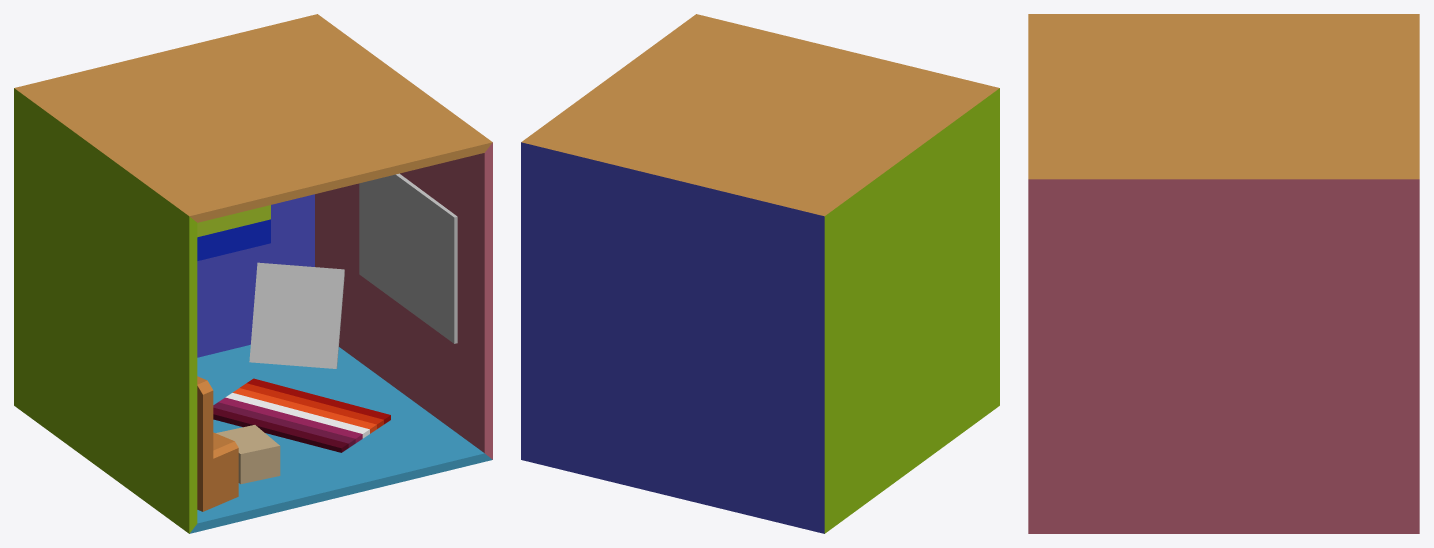
The model's file is gayRoom.obj.
The picture shows the model from 3 angles, left to right: view 1: azimuth 30°, elevation 25°; view 2: azimuth 150°, elevation 25°; view 3: azimuth 270°, elevation 25°; orthographic projection. The views are drawn at different scales.
Visible parts, largest first — view 1: MainRoom, Mirror.001, Cube, Cube.001, Chair, PanFlag, Ottoman; view 2: MainRoom; view 3: MainRoom.
Part boxes in pixels (x1,y1,x2,y2): MainRoom: [14, 14, 492, 533]; Mirror.001: [359, 173, 457, 343]; Cube: [249, 262, 344, 368]; Cube.001: [213, 378, 390, 452]; Chair: [197, 376, 238, 511]; PanFlag: [197, 205, 270, 260]; Ottoman: [216, 425, 280, 484]; MainRoom: [521, 14, 999, 533]; MainRoom: [1028, 14, 1419, 533].
Bounding box in the file's own units: 9.97 × 9.97 × 9.97.
